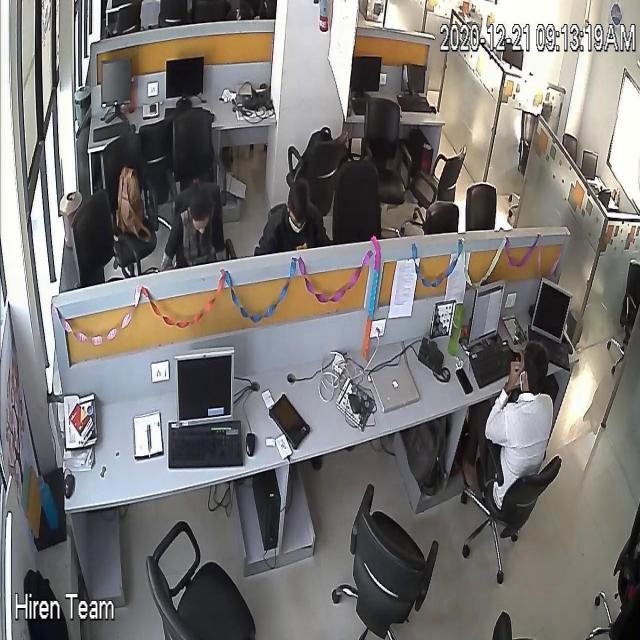chair: (335, 482, 441, 640), (140, 515, 259, 640), (468, 422, 560, 582), (98, 120, 158, 264), (69, 199, 135, 289), (279, 124, 347, 210), (361, 99, 409, 206), (594, 530, 638, 630), (170, 110, 216, 182), (416, 140, 466, 206), (618, 239, 640, 342), (400, 196, 460, 233), (466, 179, 498, 233), (520, 105, 534, 182), (105, 8, 143, 32), (560, 129, 580, 164), (195, 7, 235, 24), (162, 1, 188, 26)
keyboard: (166, 420, 244, 473), (469, 341, 515, 384), (532, 330, 572, 372), (87, 119, 133, 139), (396, 92, 432, 116), (351, 97, 369, 115)
laptop: (373, 359, 423, 412)
monitor: (176, 349, 234, 418), (531, 272, 574, 347), (468, 268, 506, 346), (165, 54, 204, 100), (350, 48, 382, 100), (96, 64, 135, 103), (398, 58, 427, 97), (503, 36, 525, 68), (582, 147, 598, 183)
person: (489, 345, 554, 499), (255, 179, 332, 257), (168, 192, 232, 273)
phone: (456, 365, 474, 399)
